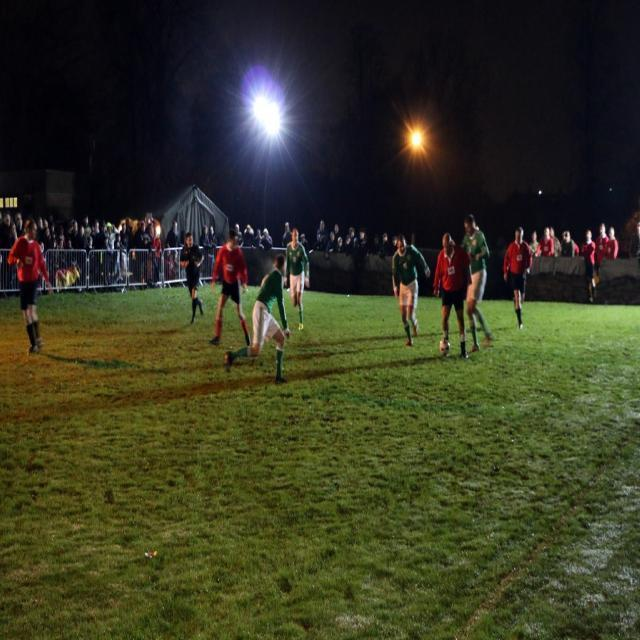ball: (436, 334, 451, 356)
